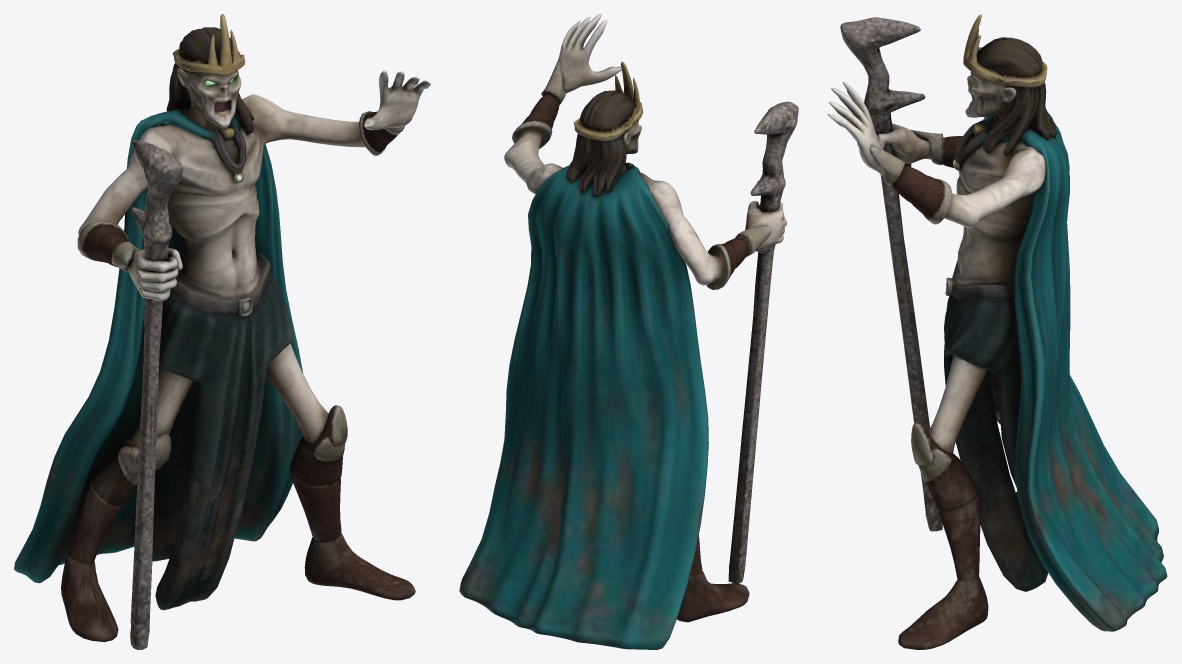
Rendered from MZ4250 - Deathlock Mastermind.glb.
3 renders of one model, left to right at view 1: azimuth 30°, elevation 25°; view 2: azimuth 150°, elevation 25°; view 3: azimuth 270°, elevation 25°, orthographic. The views are drawn at different scales.
Parts seen in each view (by area): view 1: ORGANIC BASE SPHERE.001; view 2: ORGANIC BASE SPHERE.001; view 3: ORGANIC BASE SPHERE.001.
Part boxes in pixels (x1,y1,x2,y2): ORGANIC BASE SPHERE.001: [14, 14, 430, 649]; ORGANIC BASE SPHERE.001: [459, 14, 798, 649]; ORGANIC BASE SPHERE.001: [827, 14, 1167, 649].
Bounding box in the file's own units: 0.4786 × 0.9277 × 0.493.
Materials: 1 (1 with a texture image).
